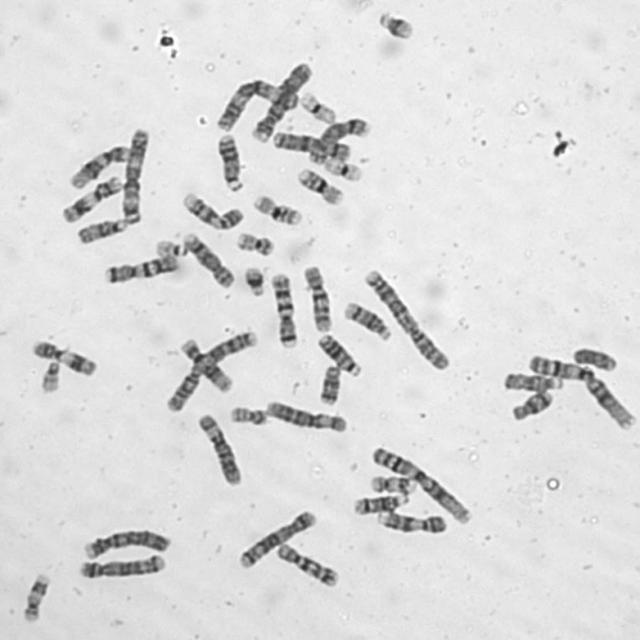A1: (524, 351, 638, 431), (367, 442, 473, 526)
A2: (360, 265, 453, 373), (162, 326, 259, 414)
A3: (211, 76, 303, 133), (118, 126, 151, 224)
B4: (248, 60, 314, 143), (78, 524, 174, 560)
B5: (235, 507, 319, 571), (75, 552, 167, 580)
C10: (274, 539, 340, 589), (300, 261, 334, 335)
C11: (58, 172, 124, 224), (28, 337, 100, 379)
C12: (178, 335, 235, 395), (66, 141, 132, 191)
C6: (195, 410, 243, 487), (264, 398, 348, 436)
C7: (100, 252, 181, 285), (268, 269, 300, 350)
C8: (305, 114, 373, 165), (180, 230, 237, 290)
C9: (178, 188, 246, 231), (374, 508, 449, 536)
D13: (314, 330, 363, 378), (213, 130, 245, 193)
D14: (341, 298, 394, 343), (348, 490, 411, 517)
D15: (500, 369, 566, 394), (73, 215, 128, 245)
E16: (294, 164, 345, 207), (249, 191, 306, 228)
E17: (19, 571, 52, 624), (367, 471, 418, 495)
E18: (507, 387, 555, 423), (316, 362, 342, 405)
F19: (297, 88, 339, 125), (323, 155, 364, 183)
F20: (233, 228, 277, 258), (228, 402, 269, 427)
G21: (375, 8, 416, 41), (242, 262, 268, 298)
G22: (37, 358, 64, 395), (152, 236, 189, 258)
X: (268, 128, 352, 162)
Y: (570, 343, 620, 373)
